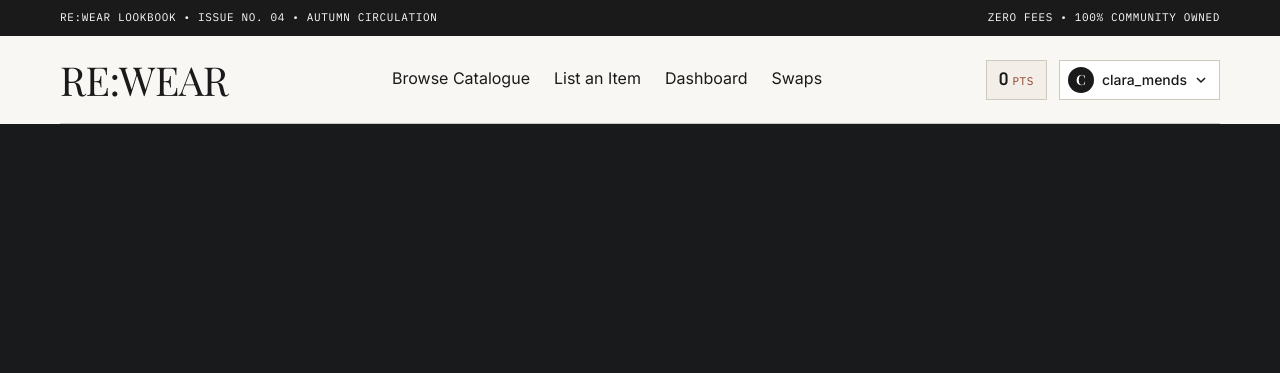
Test: Navbar › opens the avatar menu with the signed-in actions
Step 1. Click the button "C clara_mends" → (1139, 80), box top-left (1059, 60), bottom-right (1220, 100)
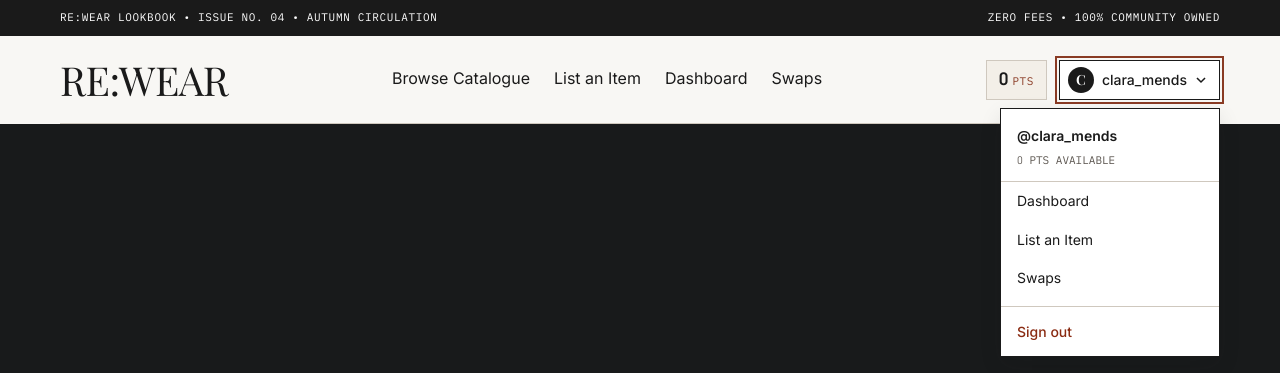
Result: the menu item "Dashboard" is shown at top-left (1017, 192), bottom-right (1089, 210)
Result: the menu item "Swaps" is shown at top-left (1017, 269), bottom-right (1061, 286)
Result: the menu item "Sign out" is shown at top-left (1001, 315), bottom-right (1219, 348)
